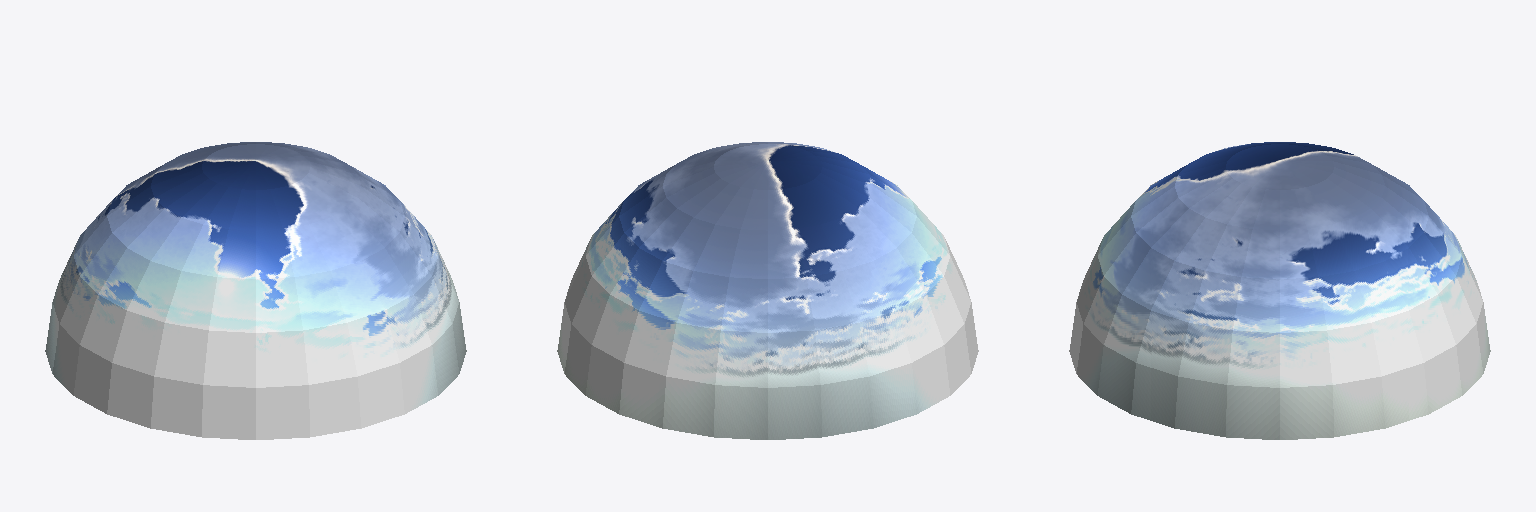
The picture shows the model from 3 angles: view 1: azimuth 30°, elevation 25°; view 2: azimuth 150°, elevation 25°; view 3: azimuth 270°, elevation 25°; orthographic projection.
Visible parts, largest first — view 1: default; view 2: default; view 3: default.
Boxes of the visible parts, x1,y1,x2,y2 form: default: [45, 142, 466, 439]; default: [557, 142, 978, 439]; default: [1069, 142, 1490, 439].
Bounding box in the file's own units: 393 × 197 × 393.
Materials: 2 (2 with a texture image).